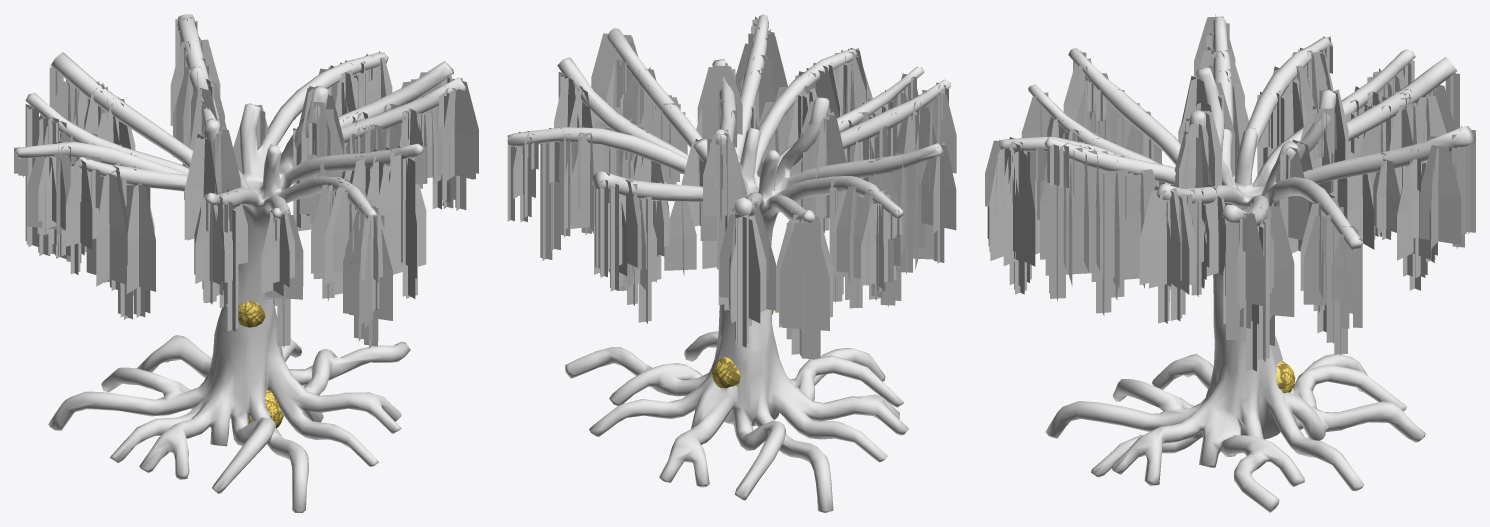
Rendered from Tree 2.fbx.
3 renders of one model, left to right at view 1: azimuth 30°, elevation 25°; view 2: azimuth 150°, elevation 25°; view 3: azimuth 270°, elevation 25°, orthographic. The views are drawn at different scales.
Parts seen in each view (by area): view 1: test, test|Plane|Dupli|351, test|Plane|Dupli|385, test|Plane|Dupli|348, test|Plane|Dupli|353, test|Plane|Dupli|236, test|Plane|Dupli|298, test|Plane|Dupli|371, test|Plane|Dupli|345, test|Plane|Dupli|366, test|Plane|Dupli|235, test|Plane|Dupli|394 (+31 smaller); view 2: test, test|Plane|Dupli|119, test|Plane|Dupli|108, test|Plane|Dupli|122, test|Plane.003|Dupli|116, test|Plane|Dupli|153, test|Plane|Dupli|353, test|Plane|Dupli|347, test|Plane|Dupli|256, test|Plane|Dupli|131, test|Plane.003|Dupli|248, test|Plane|Dupli|133 (+39 smaller); view 3: test, test|Plane|Dupli|101, test|Plane|Dupli|216, test|Plane|Dupli|386, test|Plane|Dupli|339, test|Plane|Dupli|158, test|Plane.003|Dupli|387, test|Plane|Dupli|232, test|Plane|Dupli|309, test|Plane|Dupli|161, test|Plane|Dupli|256, test|Plane|Dupli|109 (+43 smaller).
Part boxes in pixels (x1,y1,x2,y2): test: (14,14,465,512); test|Plane|Dupli|351: (86,172,126,286); test|Plane|Dupli|385: (383,154,423,269); test|Plane|Dupli|348: (126,183,155,293); test|Plane|Dupli|353: (66,157,98,249); test|Plane|Dupli|236: (351,222,392,320); test|Plane|Dupli|298: (187,135,217,240); test|Plane|Dupli|371: (267,210,294,287); test|Plane|Dupli|345: (442,90,473,182); test|Plane|Dupli|366: (194,205,221,284); test|Plane|Dupli|235: (361,214,388,283); test|Plane|Dupli|394: (332,191,354,273); test: (507,14,951,512); test|Plane|Dupli|119: (779,223,827,333); test|Plane|Dupli|108: (729,215,766,323); test|Plane|Dupli|122: (703,133,741,221); test|Plane.003|Dupli|116: (801,222,816,361); test|Plane|Dupli|153: (570,132,604,233); test|Plane|Dupli|353: (921,142,956,233); test|Plane|Dupli|347: (888,151,924,255); test|Plane|Dupli|256: (664,201,696,275); test|Plane|Dupli|131: (861,201,896,290); test|Plane.003|Dupli|248: (737,214,748,347); test|Plane|Dupli|133: (836,186,863,279); test: (999,16,1475,512); test|Plane|Dupli|101: (1419,145,1461,248); test|Plane|Dupli|216: (1093,170,1140,287); test|Plane|Dupli|386: (1045,162,1098,285); test|Plane|Dupli|339: (1149,188,1187,289); test|Plane|Dupli|158: (1225,210,1261,306); test|Plane.003|Dupli|387: (1050,184,1065,301); test|Plane|Dupli|232: (1003,154,1039,266); test|Plane|Dupli|309: (1303,213,1326,312); test|Plane|Dupli|161: (1275,145,1308,240); test|Plane|Dupli|256: (1347,173,1375,249); test|Plane|Dupli|109: (1374,159,1400,233).
Bounding box in the file's own units: 2429 × 2088 × 2488.
